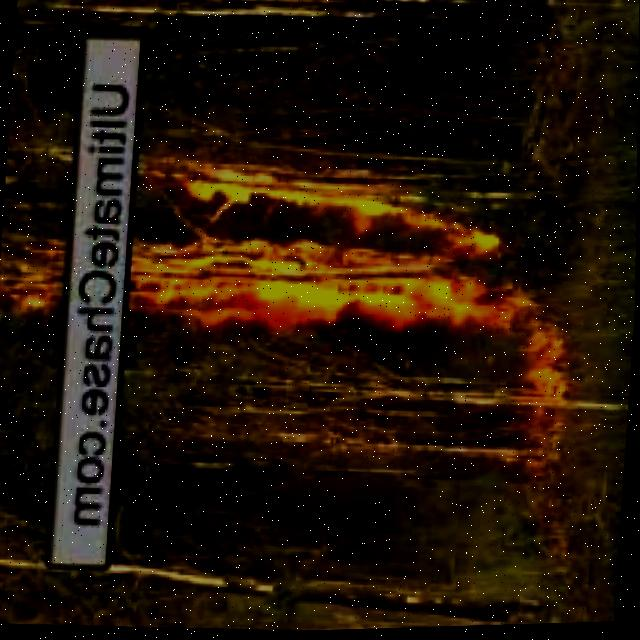Fire: (128, 156, 528, 382), (496, 299, 584, 428), (0, 241, 65, 320)
